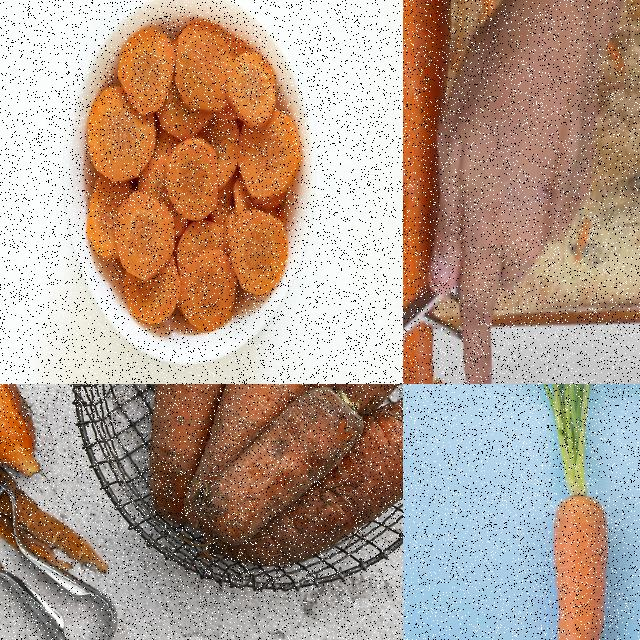carrot: (75, 7, 302, 330), (226, 400, 402, 570), (186, 384, 376, 534), (200, 386, 362, 548), (403, 0, 453, 383), (150, 384, 257, 529), (537, 484, 619, 639)
